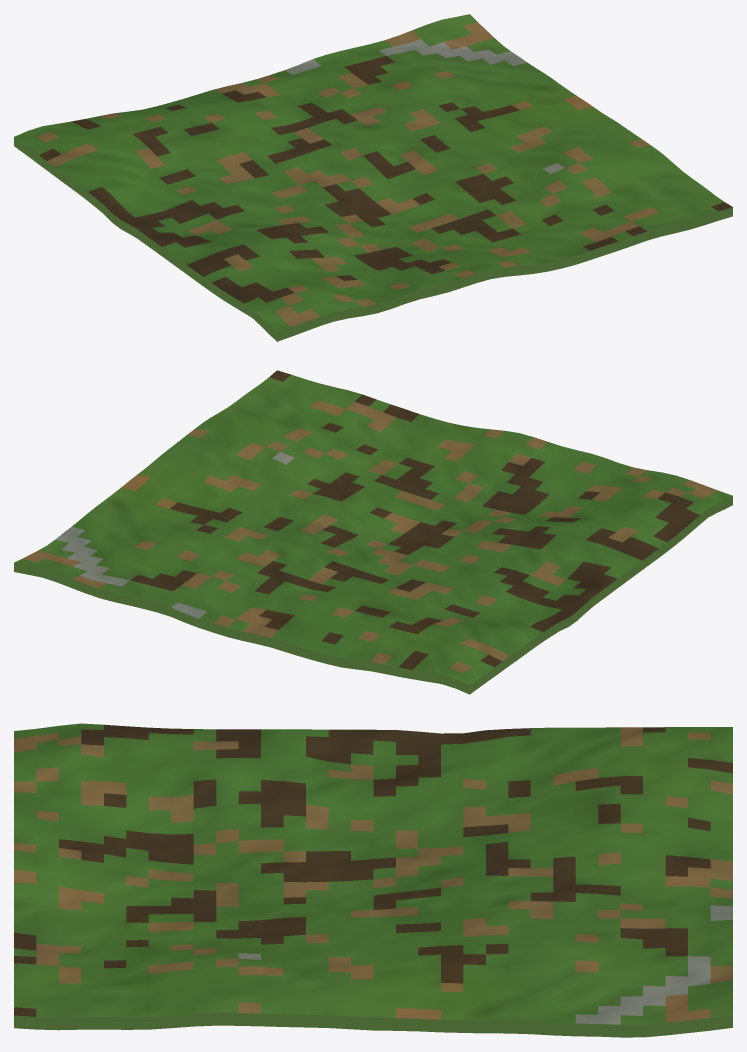
Rendered from chunk_2_4_lod1.glb.
3 renders of one model, top to bottom at view 1: azimuth 30°, elevation 25°; view 2: azimuth 150°, elevation 25°; view 3: azimuth 270°, elevation 25°, orthographic. The views are drawn at different scales.
Visible parts, largest first — view 1: Surface_Grass, Surface_Mud, Surface_Dirt, Skirt, Surface_Gravel; view 2: Surface_Grass, Surface_Mud, Surface_Dirt, Skirt, Surface_Gravel; view 3: Surface_Grass, Surface_Mud, Surface_Dirt, Skirt, Surface_Gravel.
Boxes of the visible parts, box(x1,y1,x2,y2) form: Surface_Grass: box(14, 14, 723, 332); Surface_Mud: box(39, 56, 732, 303); Surface_Dirt: box(36, 22, 659, 327); Skirt: box(14, 137, 732, 341); Surface_Gravel: box(285, 39, 564, 173); Surface_Grass: box(14, 374, 732, 685); Surface_Mud: box(130, 370, 699, 669); Surface_Dirt: box(22, 400, 718, 672); Skirt: box(14, 496, 732, 694); Surface_Gravel: box(55, 451, 294, 618); Surface_Grass: box(14, 723, 732, 1024); Surface_Mud: box(14, 724, 732, 1016); Surface_Dirt: box(14, 727, 732, 1022); Skirt: box(14, 1013, 732, 1037); Surface_Gravel: box(238, 905, 732, 1024).
Bounding box in the file's own units: 256 × 15.28 × 256.
